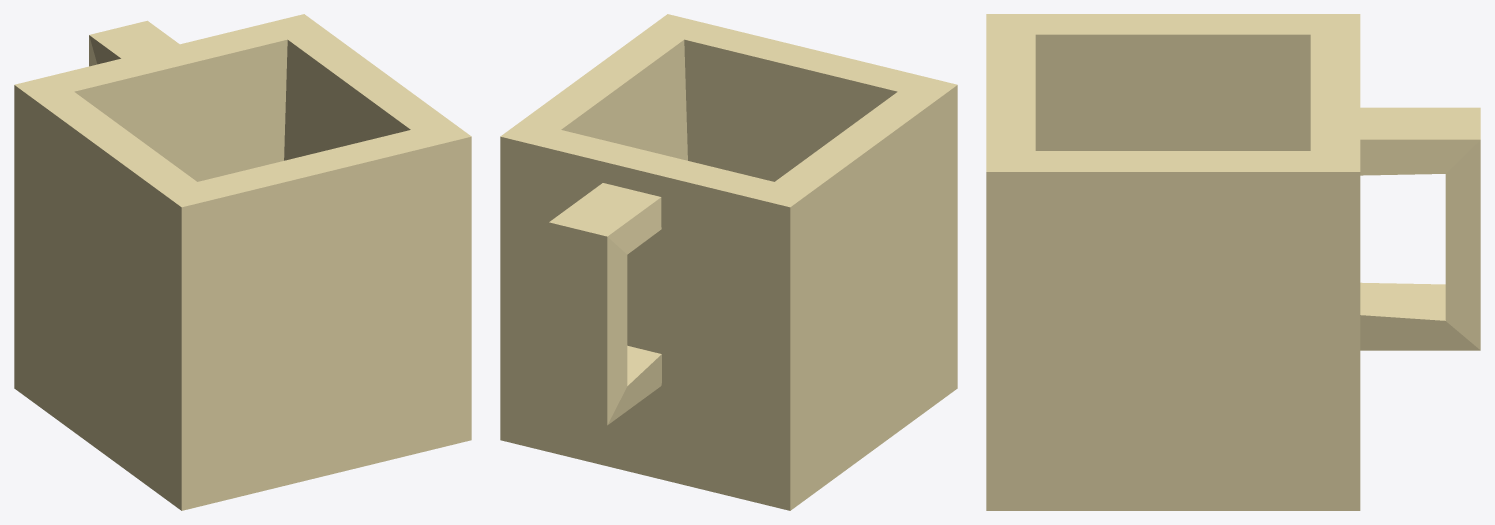
The model's file is CandylandCup_01.fbx.
3 renders of one model, left to right at view 1: azimuth 30°, elevation 25°; view 2: azimuth 150°, elevation 25°; view 3: azimuth 270°, elevation 25°, orthographic. The views are drawn at different scales.
Parts seen in each view (by area): view 1: CandylandCup_01; view 2: CandylandCup_01; view 3: CandylandCup_01.
Boxes of the visible parts, bbox=[...] form: CandylandCup_01: bbox=[14, 14, 471, 510]; CandylandCup_01: bbox=[500, 14, 957, 510]; CandylandCup_01: bbox=[986, 14, 1480, 510].
Size of the model in its own units: 0.5116 by 0.5116 by 0.6766.
